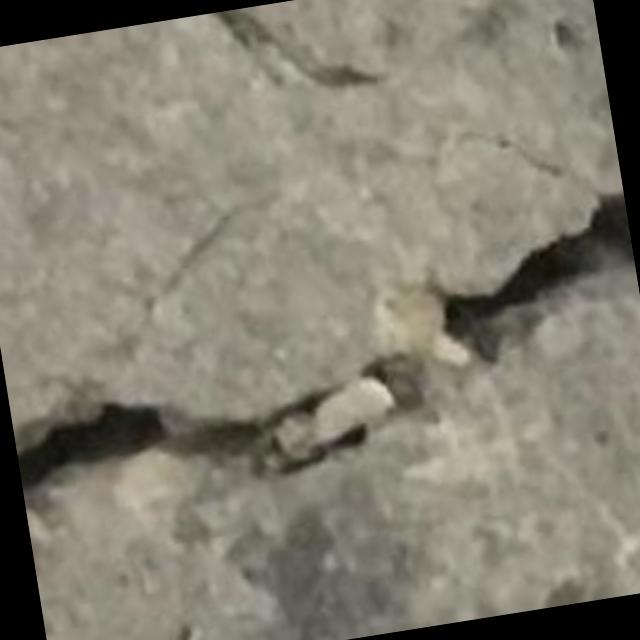crack: (14, 194, 633, 499)
